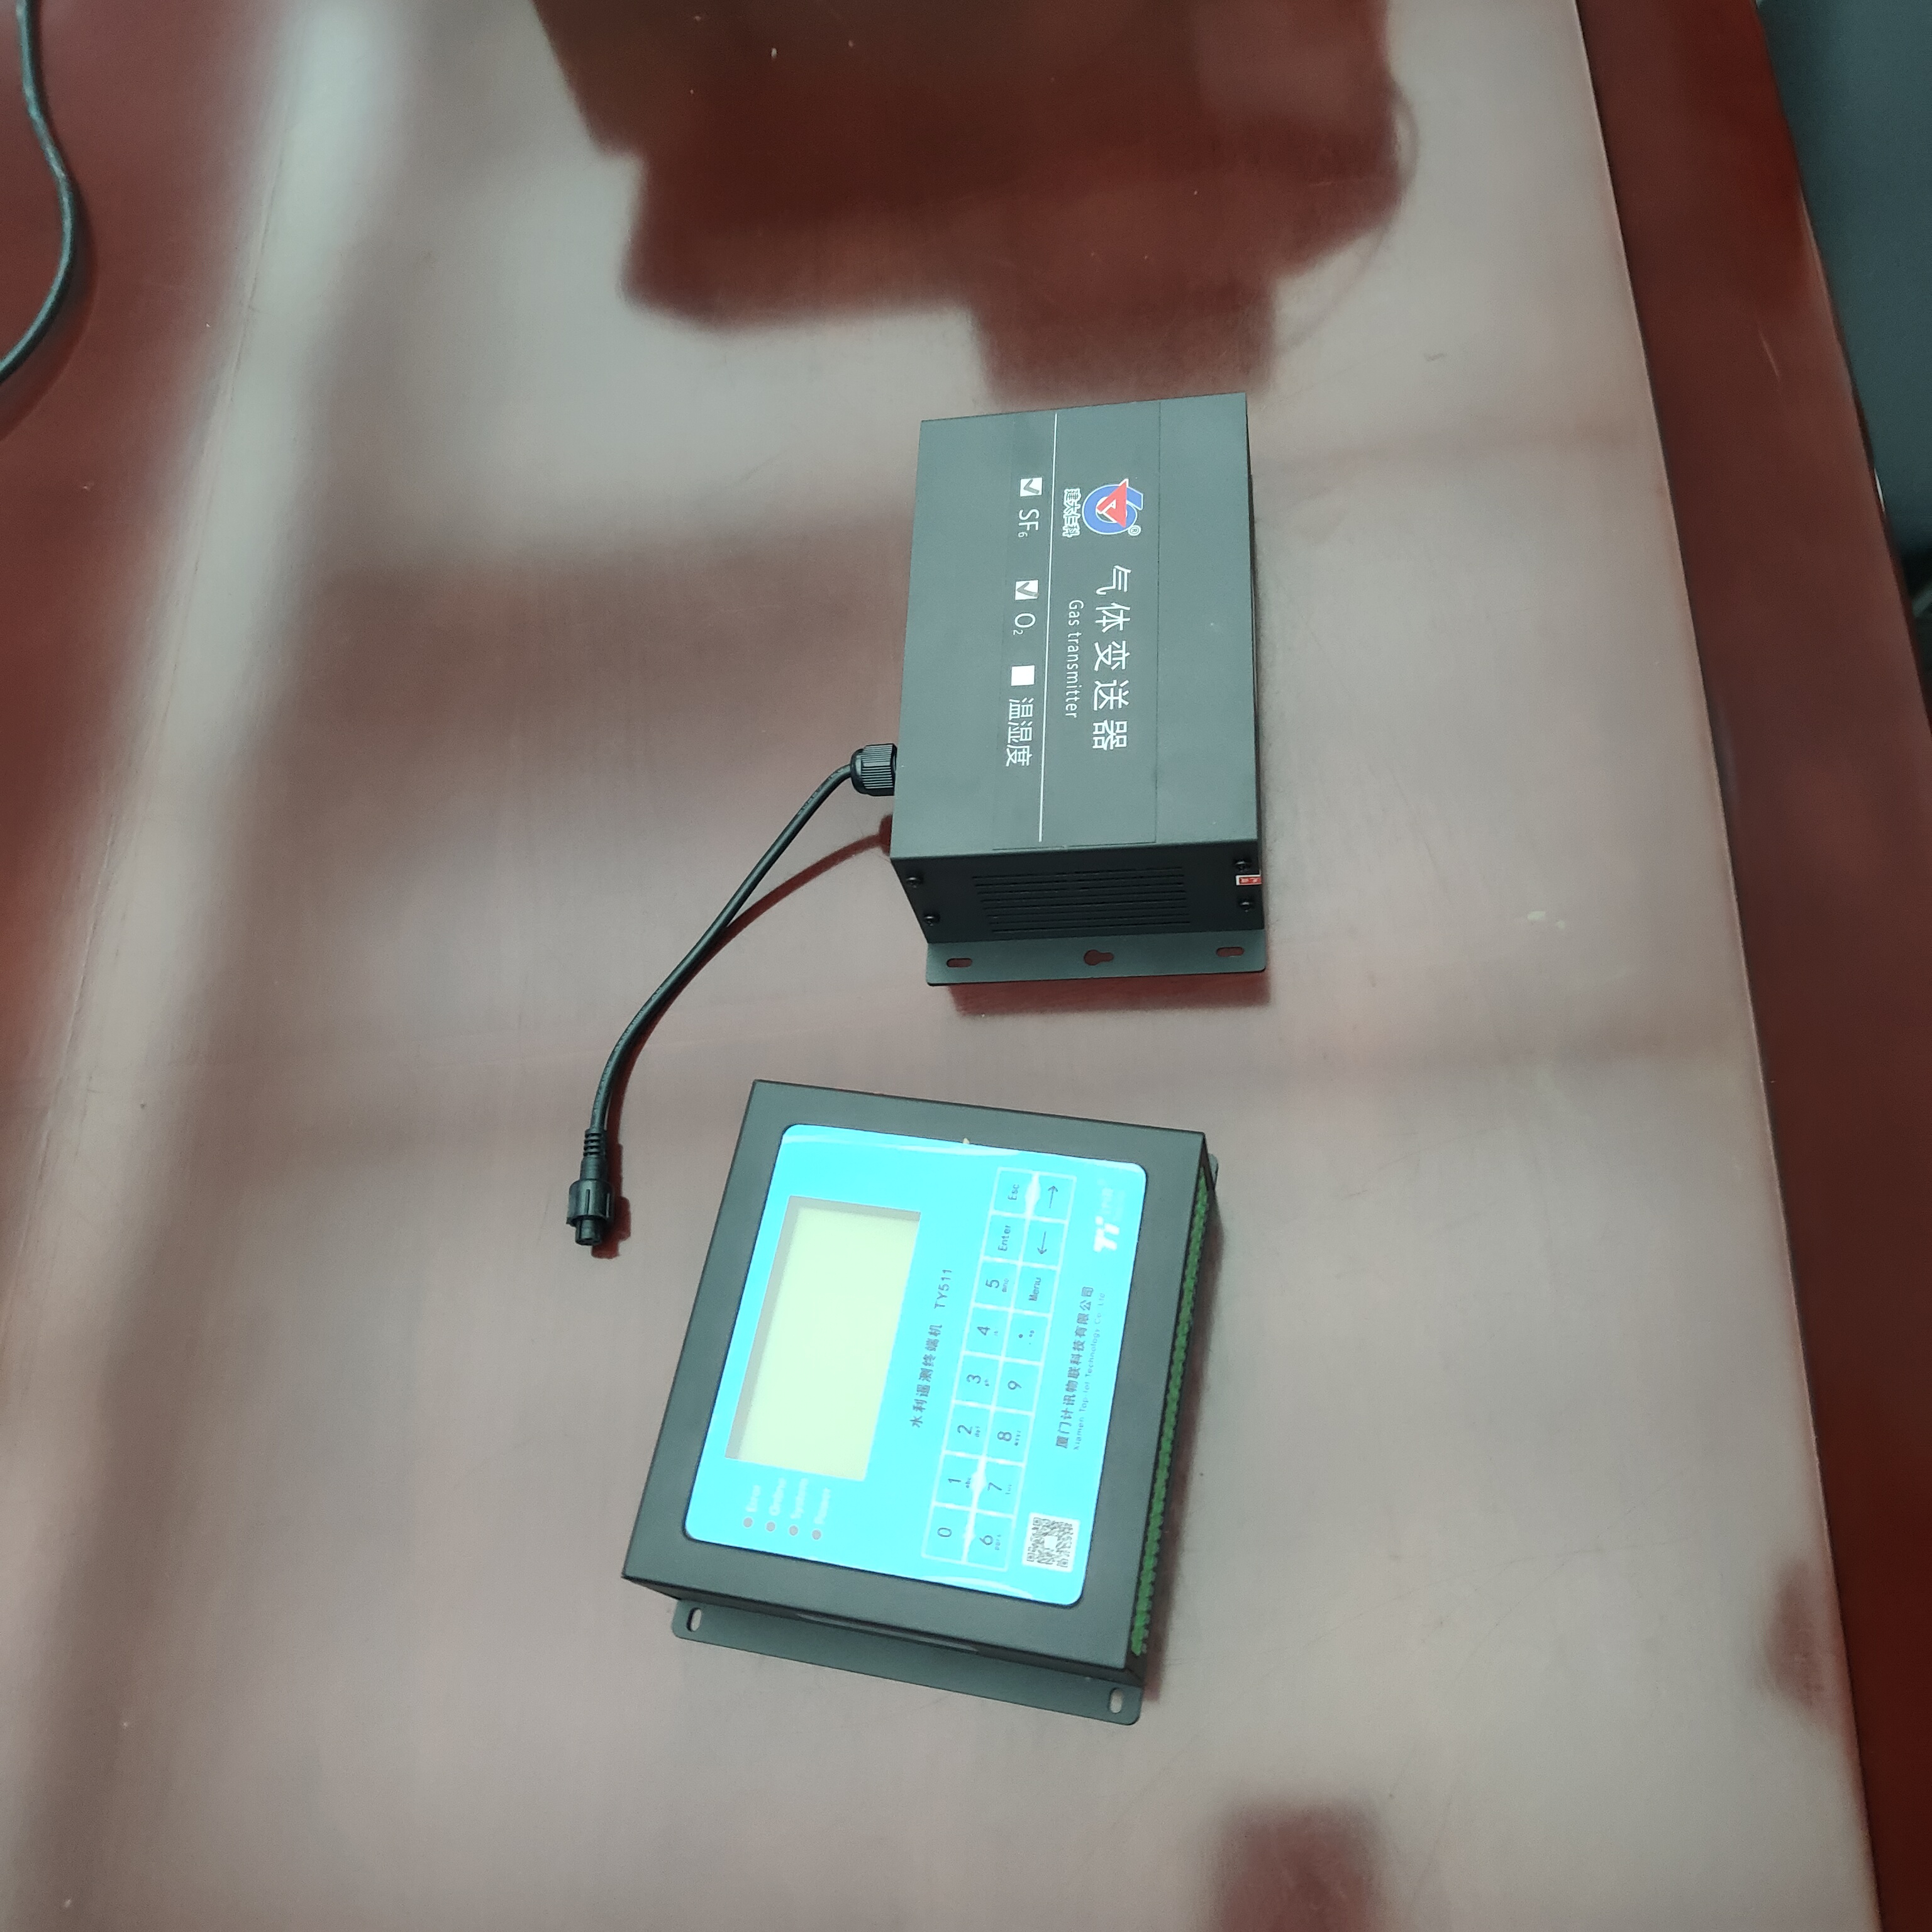qtbsq: (885, 380, 1302, 1012)
slyczd: (619, 1070, 1244, 1741)
